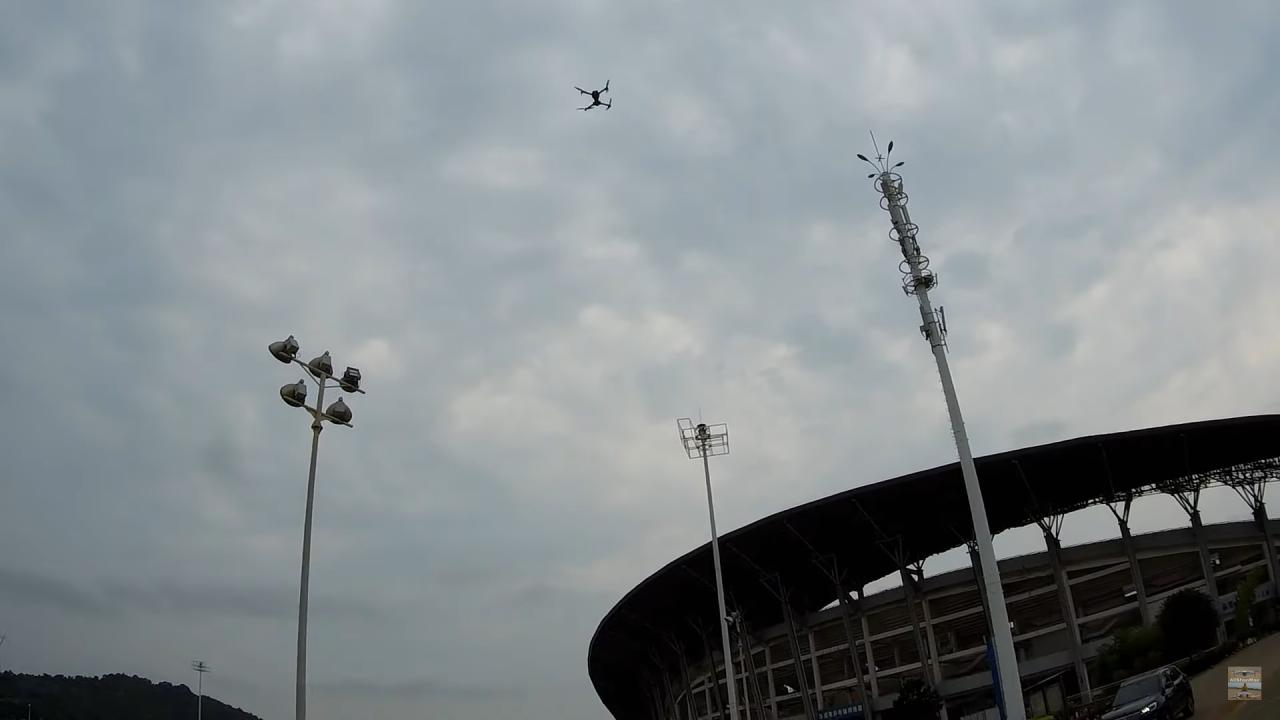Drone: (566, 73, 622, 119)
